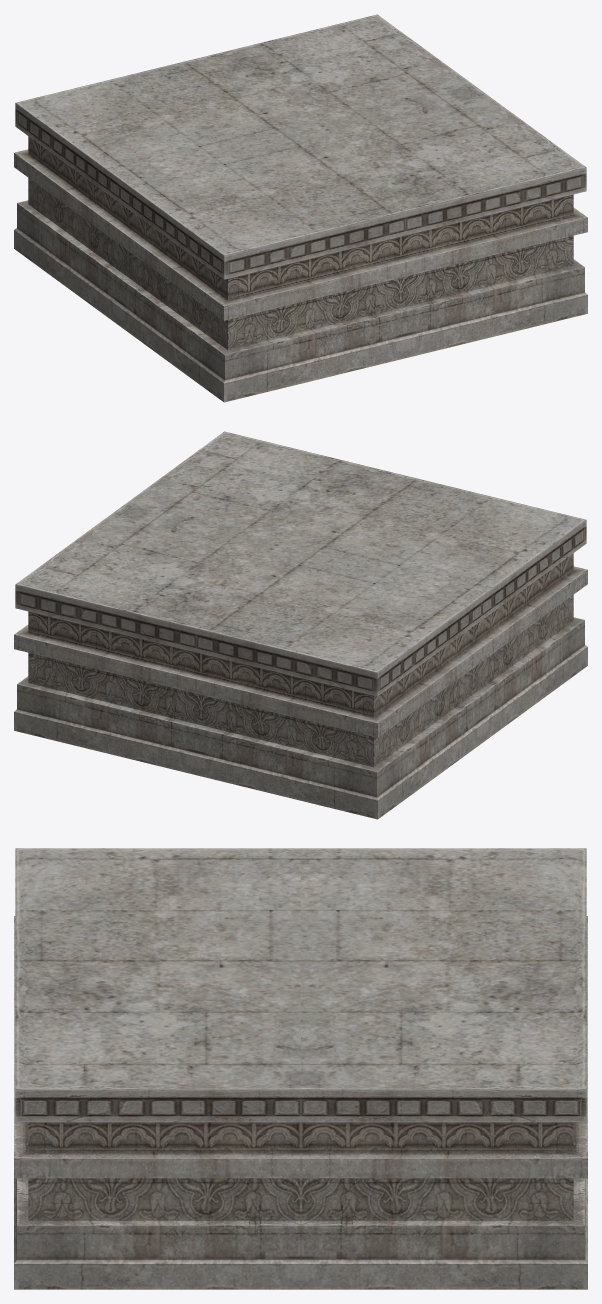
Rendered from bg_lut_lucastle_churchtower05_sm_ksh.FBX.
3 views of the same model, one above another, from view 1: azimuth 30°, elevation 25°; view 2: azimuth 150°, elevation 25°; view 3: azimuth 270°, elevation 25° (orthographic). The views are drawn at different scales.
Parts seen in each view (by area): view 1: bg_lut_lucastle_churchtower05_sm_ksh; view 2: bg_lut_lucastle_churchtower05_sm_ksh; view 3: bg_lut_lucastle_churchtower05_sm_ksh.
Boxes of the visible parts, x1,y1,x2,y2 form: bg_lut_lucastle_churchtower05_sm_ksh: (14,14,587,402); bg_lut_lucastle_churchtower05_sm_ksh: (14,431,587,819); bg_lut_lucastle_churchtower05_sm_ksh: (14,848,587,1289).
Bounding box in the file's own units: 362 × 139 × 362.
